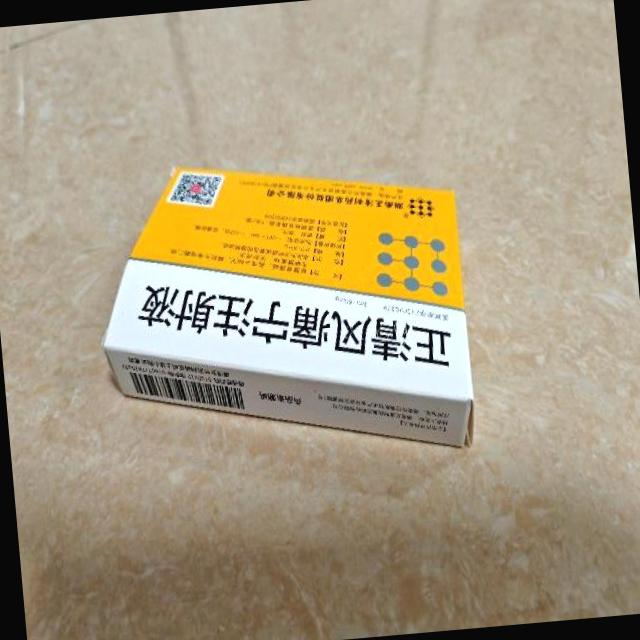box: (90, 144, 480, 482)
